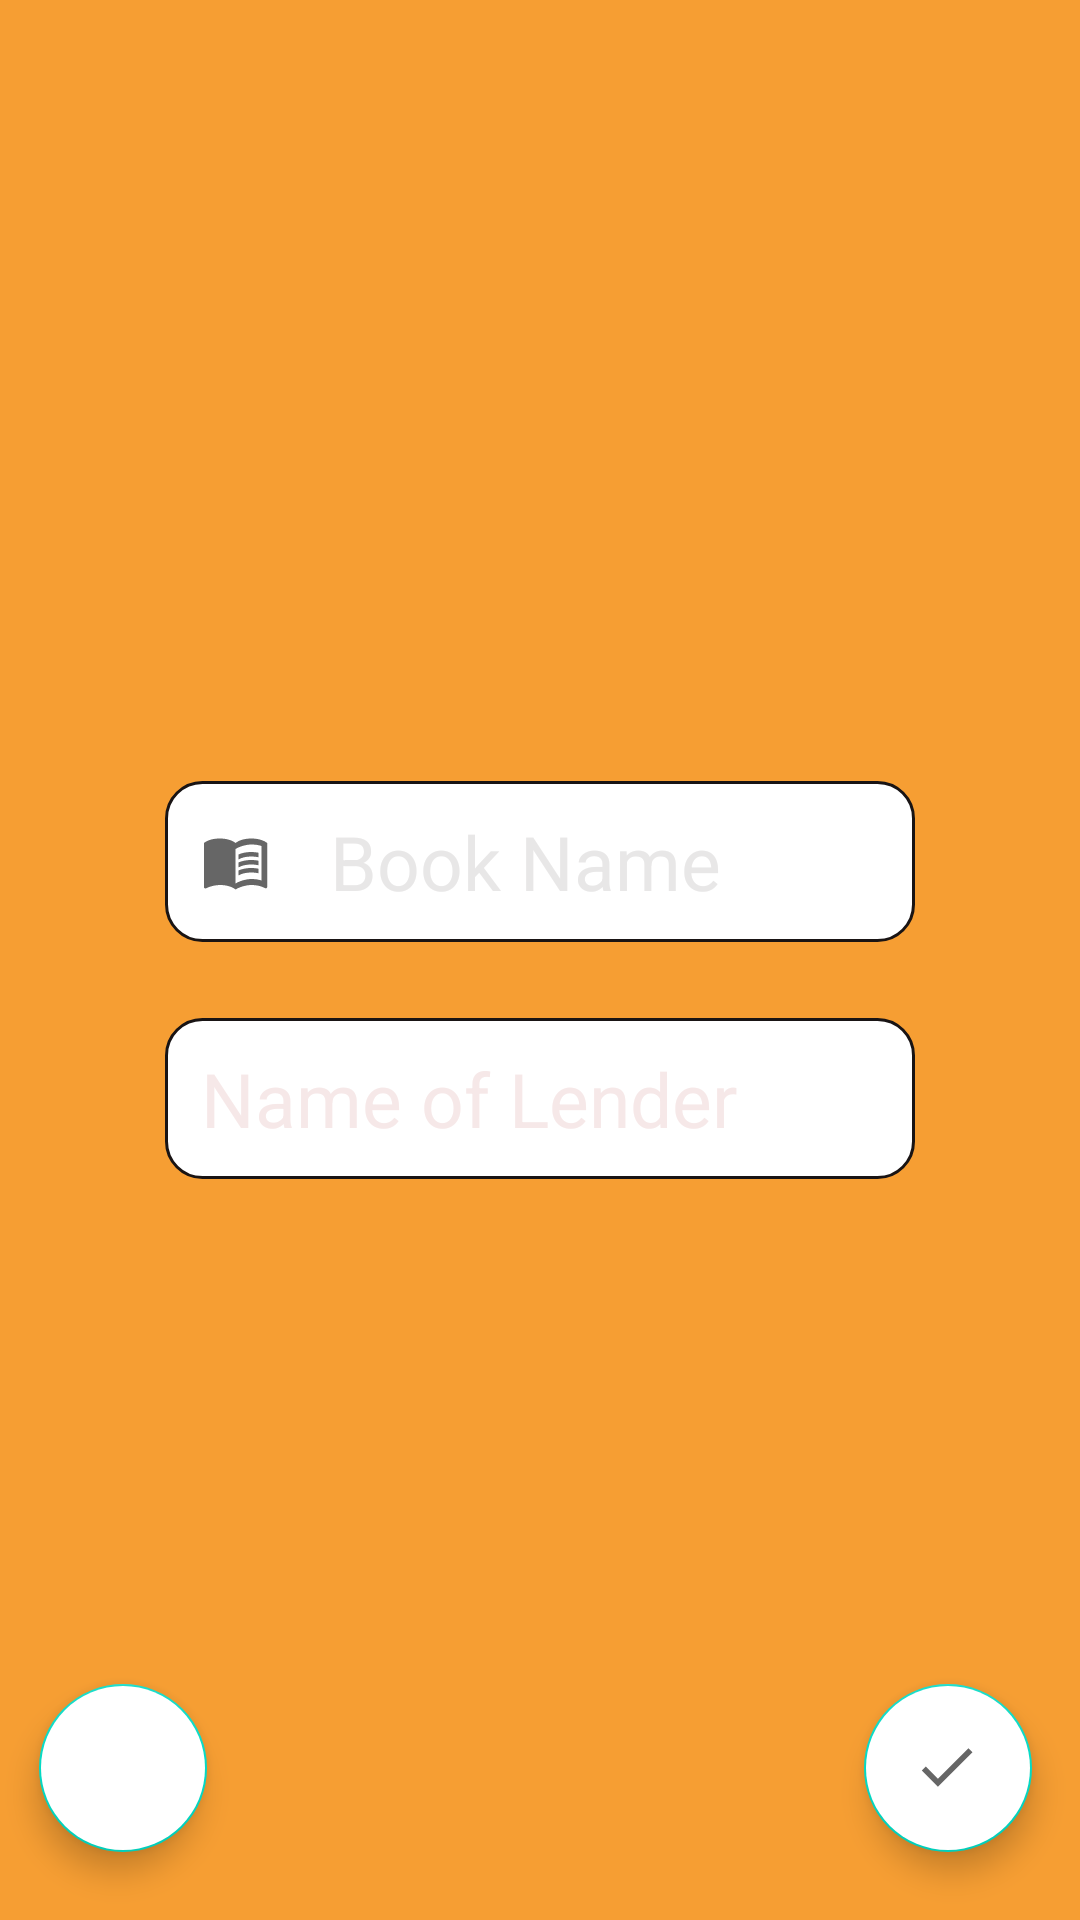

Icon click points for this 1080 x 1920 phone screenshot, format (x,y):
done: (948,1768)
